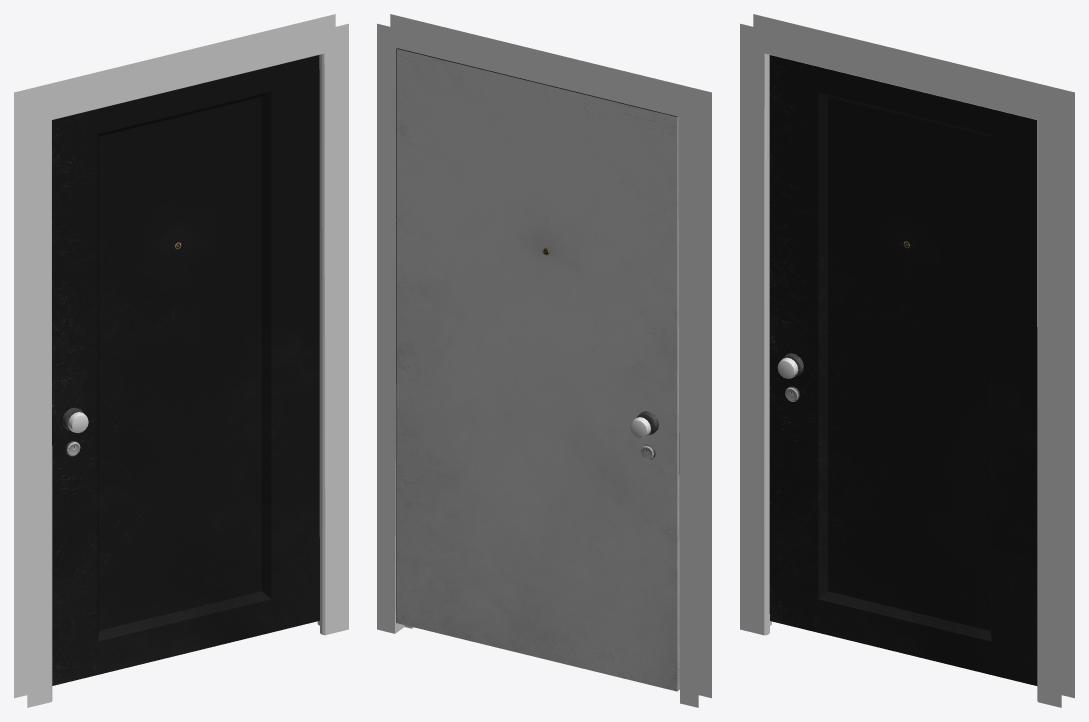
The model's file is BUILDING_entranceDoor_01.FBX.
3 views of the same model, side by side, from view 1: azimuth 30°, elevation 25°; view 2: azimuth 150°, elevation 25°; view 3: azimuth 330°, elevation 25° (orthographic).
Visible parts, largest first — view 1: BUILDING_entranceDoor_01_door, BUILDING_entranceDoor_01_doorway; view 2: BUILDING_entranceDoor_01_door, BUILDING_entranceDoor_01_doorway; view 3: BUILDING_entranceDoor_01_door, BUILDING_entranceDoor_01_doorway.
Part boxes in pixels (x1=…): BUILDING_entranceDoor_01_door: x1=52, y1=55, x2=319, y2=685; BUILDING_entranceDoor_01_doorway: x1=14, y1=14, x2=348, y2=707; BUILDING_entranceDoor_01_door: x1=396, y1=48, x2=679, y2=691; BUILDING_entranceDoor_01_doorway: x1=377, y1=14, x2=711, y2=707; BUILDING_entranceDoor_01_door: x1=769, y1=55, x2=1037, y2=685; BUILDING_entranceDoor_01_doorway: x1=740, y1=14, x2=1074, y2=707.
Size of the model in its own units: 159 by 287 by 24.3.
1 material, 1 textured.
